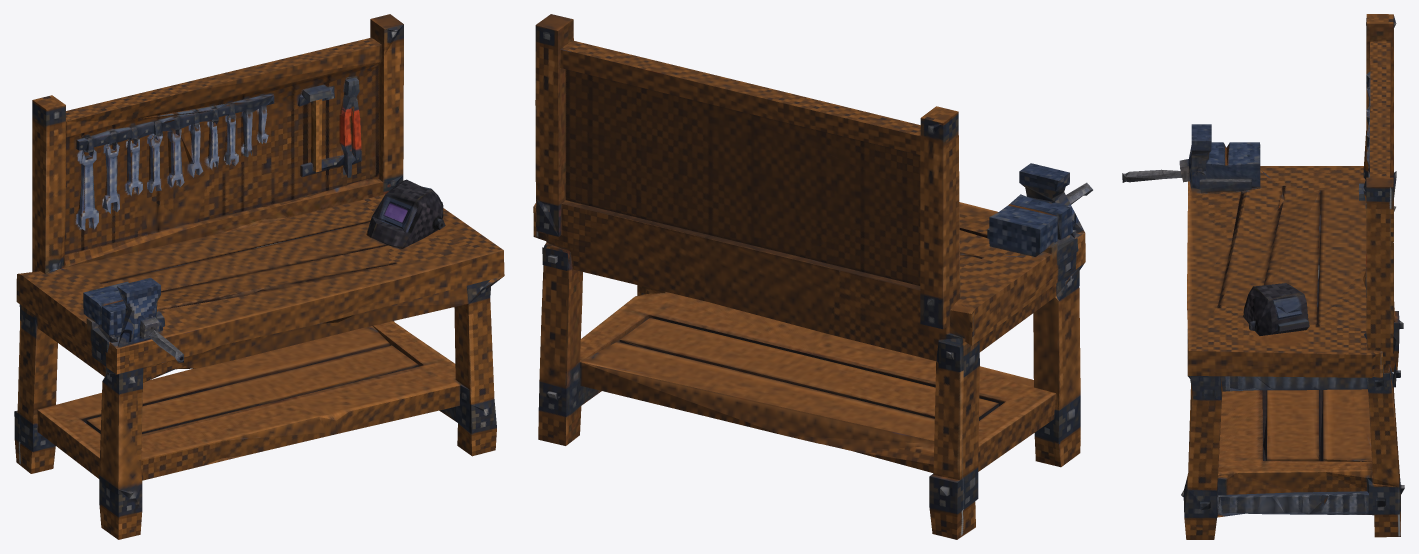
The model's file is Meshy_AI_model.glb.
3 views of the same model, side by side, from view 1: azimuth 30°, elevation 25°; view 2: azimuth 150°, elevation 25°; view 3: azimuth 270°, elevation 25° (orthographic). The views are drawn at different scales.
Parts seen in each view (by area): view 1: output_unwrapped; view 2: output_unwrapped; view 3: output_unwrapped.
Part boxes in pixels (x1,y1,x2,y2): output_unwrapped: [14, 14, 504, 539]; output_unwrapped: [533, 14, 1092, 539]; output_unwrapped: [1122, 14, 1404, 539].
Size of the model in its own units: 1.89 by 1.67 by 1.21.
Materials: 1 (1 with a texture image).
